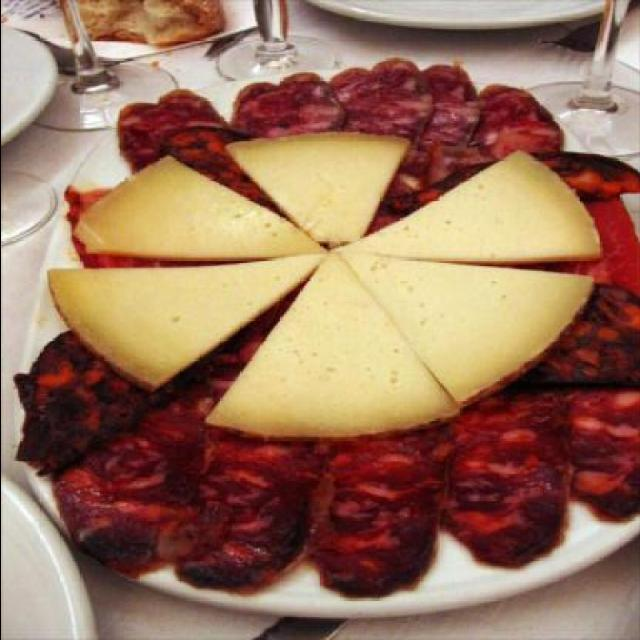Cheese: (42, 134, 604, 442)
